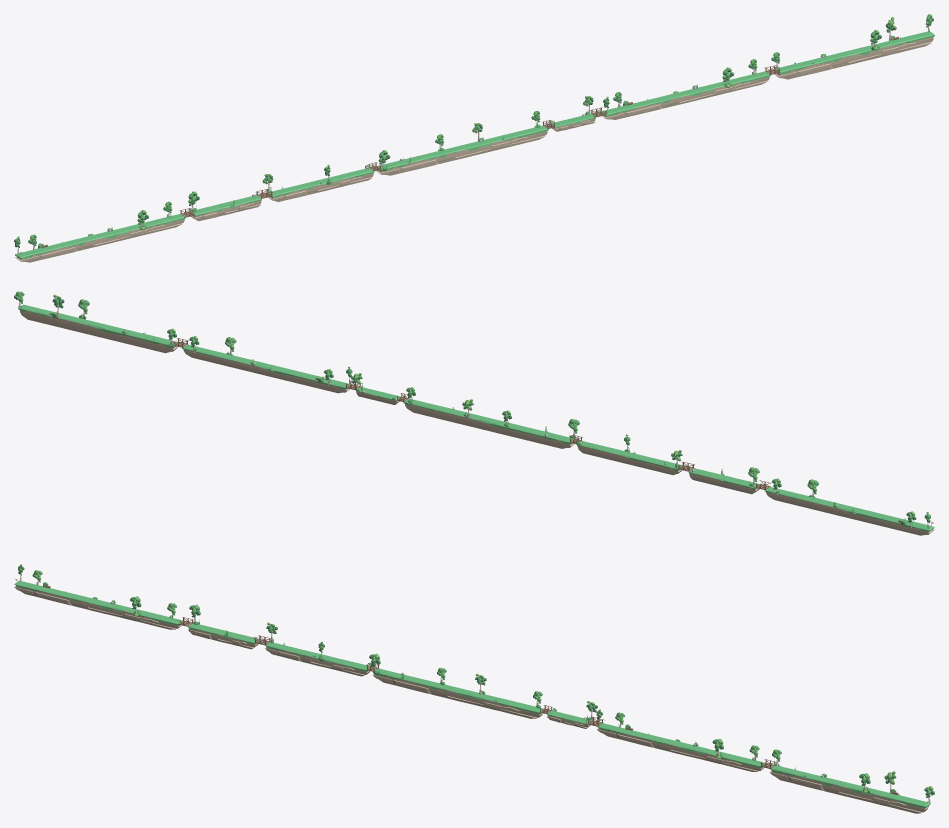
File: Park_Map_lvl_5_LANG.fbx
3 renders of one model, top to bottom at view 1: azimuth 30°, elevation 25°; view 2: azimuth 150°, elevation 25°; view 3: azimuth 330°, elevation 25°, orthographic.
Visible parts, largest first — view 1: polySurface5558; view 2: polySurface5558; view 3: polySurface5558.
Boxes of the visible parts, x1=… form: polySurface5558: x1=14, y1=14, x2=934, y2=262; polySurface5558: x1=14, y1=291, x2=934, y2=535; polySurface5558: x1=14, y1=564, x2=934, y2=813.
Bounding box in the file's own units: 766 × 25.76 × 14.78.
